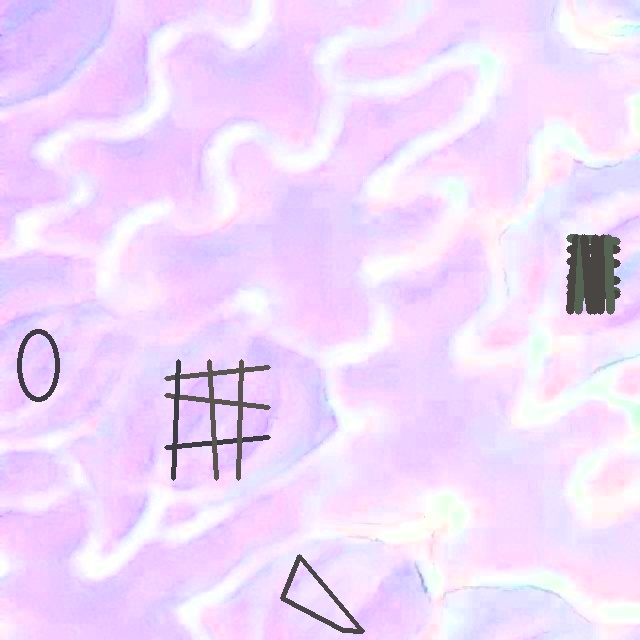close: (281, 554, 364, 632), (17, 328, 60, 402)
open: (164, 359, 270, 480), (567, 234, 619, 313)
